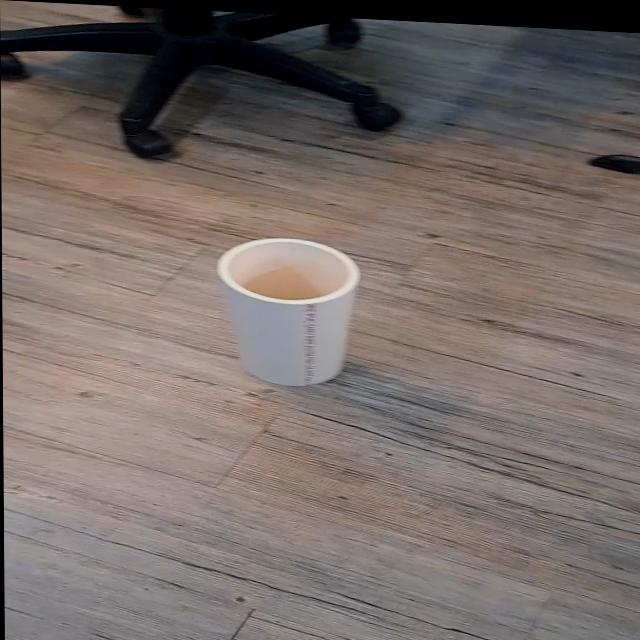CORAL: (210, 228, 381, 399)
